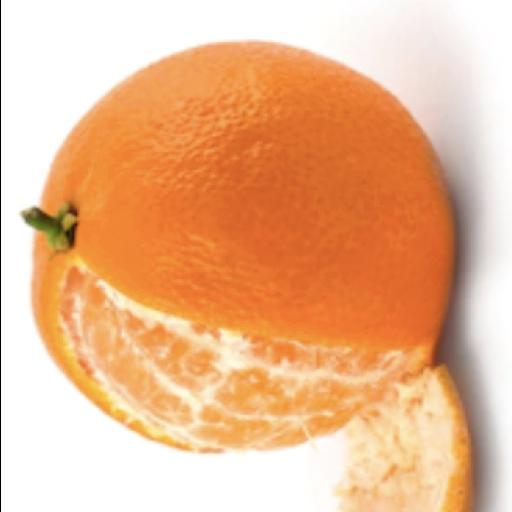orange: (25, 42, 454, 451), (337, 366, 472, 511)
